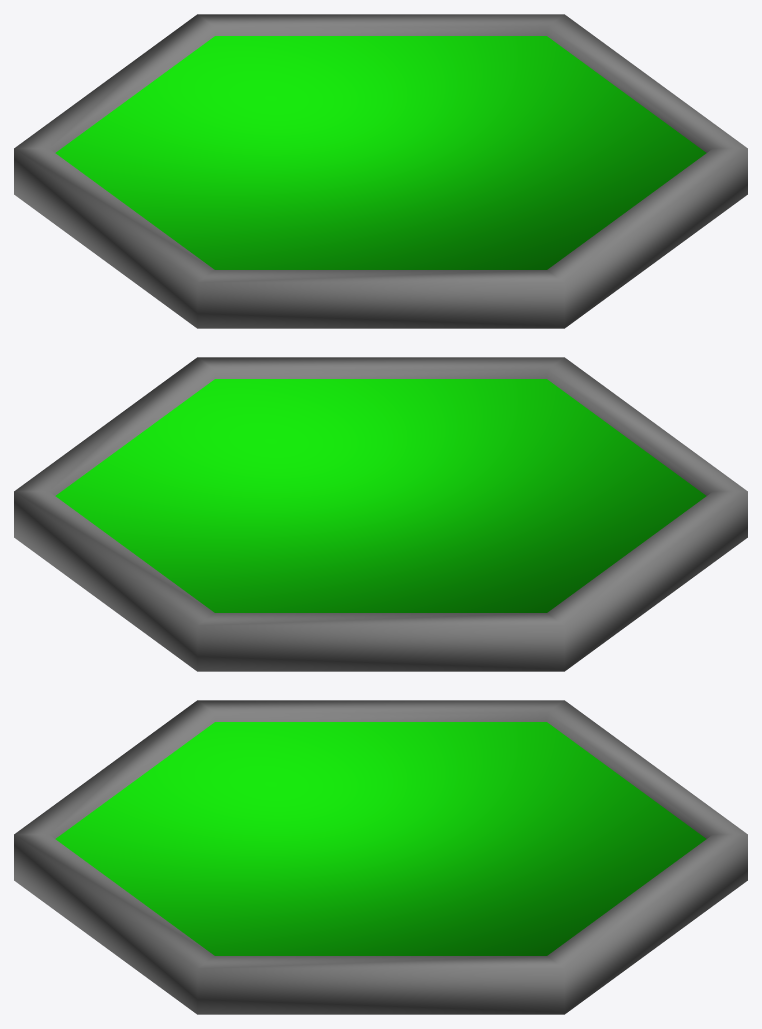
Rendered from LuzHexagonal.fbx.
The picture shows the model from 3 angles, top to bottom: view 1: azimuth 30°, elevation 25°; view 2: azimuth 150°, elevation 25°; view 3: azimuth 270°, elevation 25°; orthographic projection.
Visible parts, largest first — view 1: LuzHexagonal; view 2: LuzHexagonal; view 3: LuzHexagonal.
Boxes of the visible parts, box(x1,y1,x2,y2) form: LuzHexagonal: box(14, 14, 747, 328); LuzHexagonal: box(14, 357, 747, 671); LuzHexagonal: box(14, 700, 747, 1014).
Size of the model in its own units: 933 by 74.46 by 1078.
